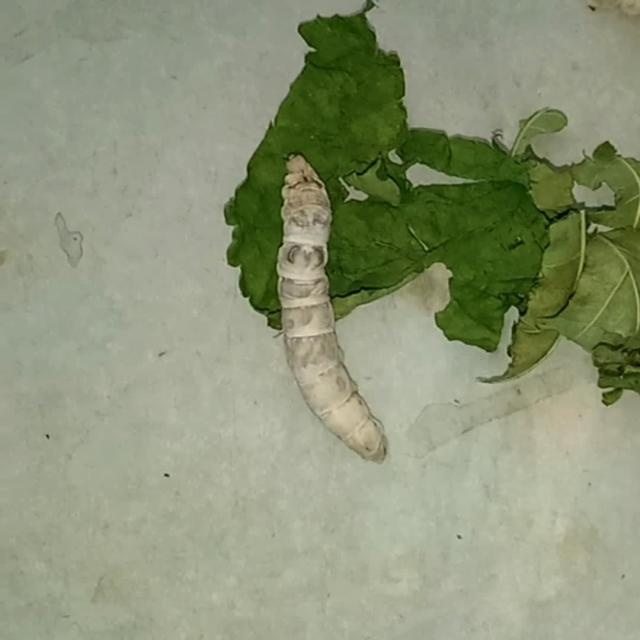Grasserie: (249, 110, 417, 474)
